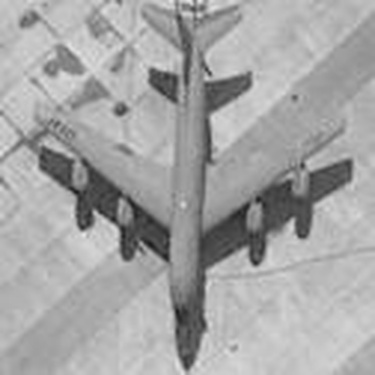airplane: (22, 1, 361, 367)
